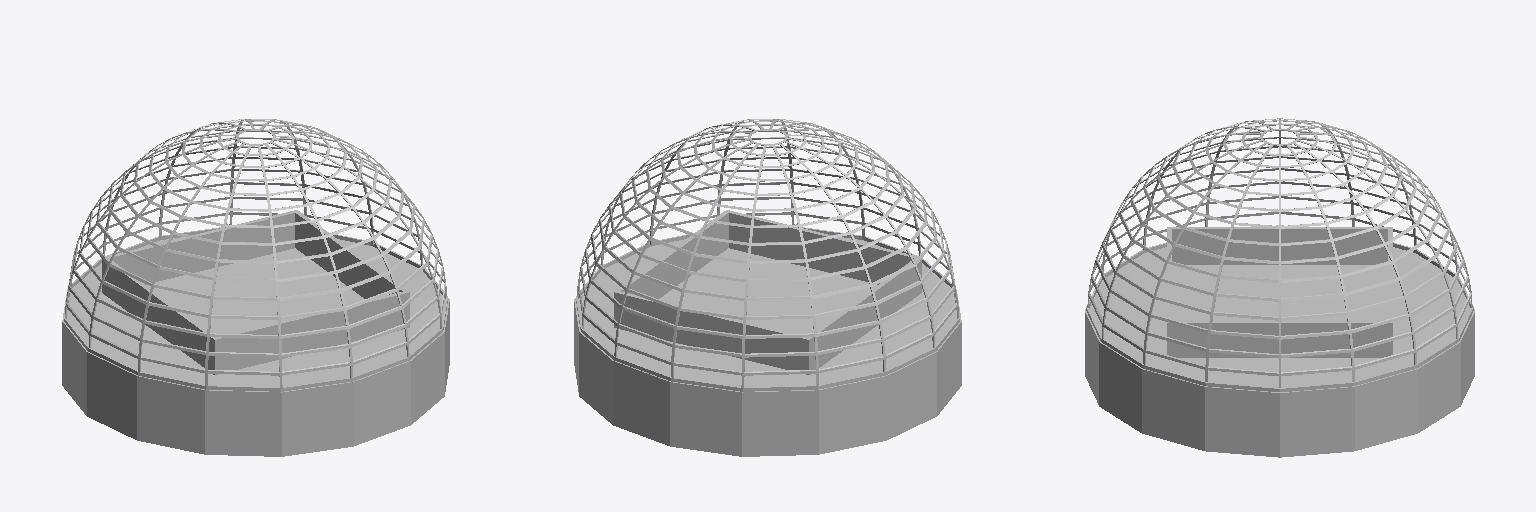
The model's file is spacebase_frame.obj.
3 renders of one model, left to right at view 1: azimuth 30°, elevation 25°; view 2: azimuth 150°, elevation 25°; view 3: azimuth 270°, elevation 25°, orthographic.
Parts seen in each view (by area): view 1: Circle, Sphere.002; view 2: Circle, Sphere.002; view 3: Circle, Sphere.002.
Part boxes in pixels (x1,y1,x2,y2): Circle: (62, 210, 449, 456); Sphere.002: (65, 119, 446, 387); Circle: (574, 210, 961, 456); Sphere.002: (577, 119, 958, 387); Circle: (1085, 225, 1474, 457); Sphere.002: (1087, 118, 1472, 387).
Size of the model in its own units: 10 by 6.72 by 10.